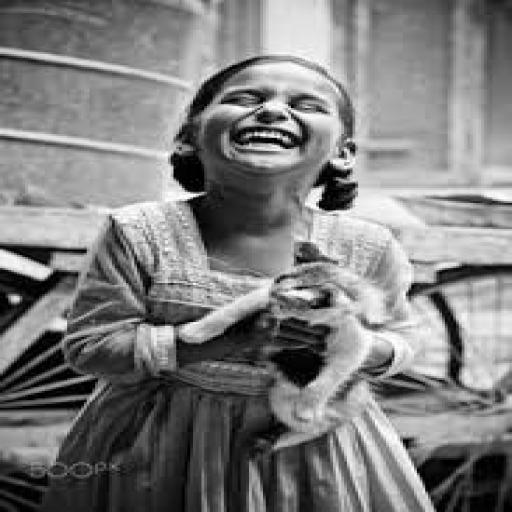laughing: (33, 47, 459, 510)
